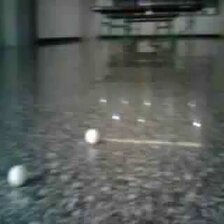w: (6, 165, 25, 187), (84, 128, 98, 144)
